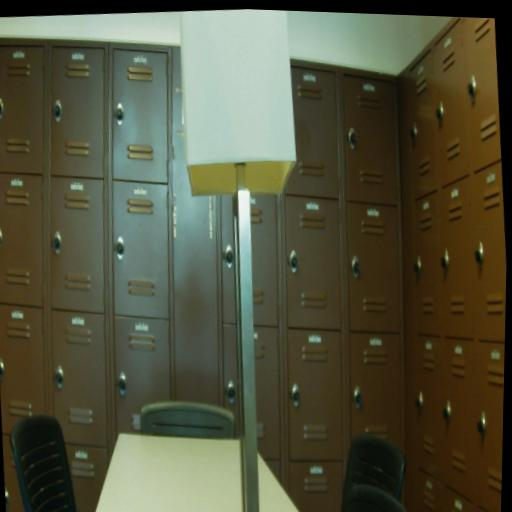lamp: (167, 7, 324, 512)
